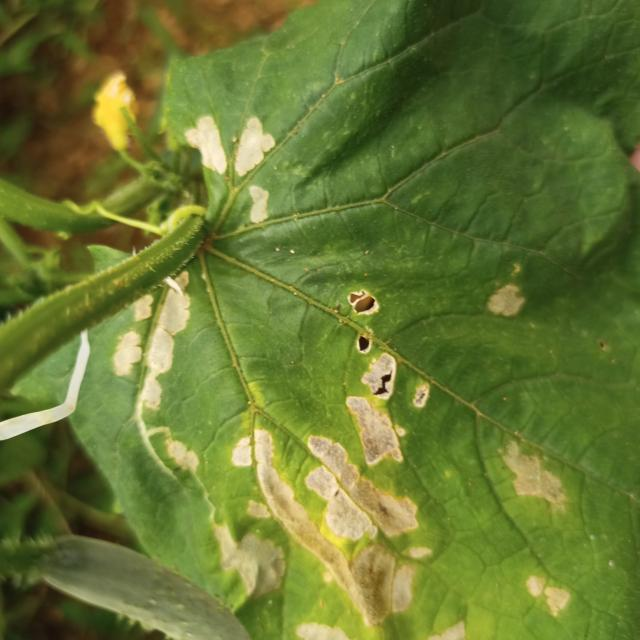disease_cucumber: (113, 271, 568, 640), (183, 111, 275, 227)
